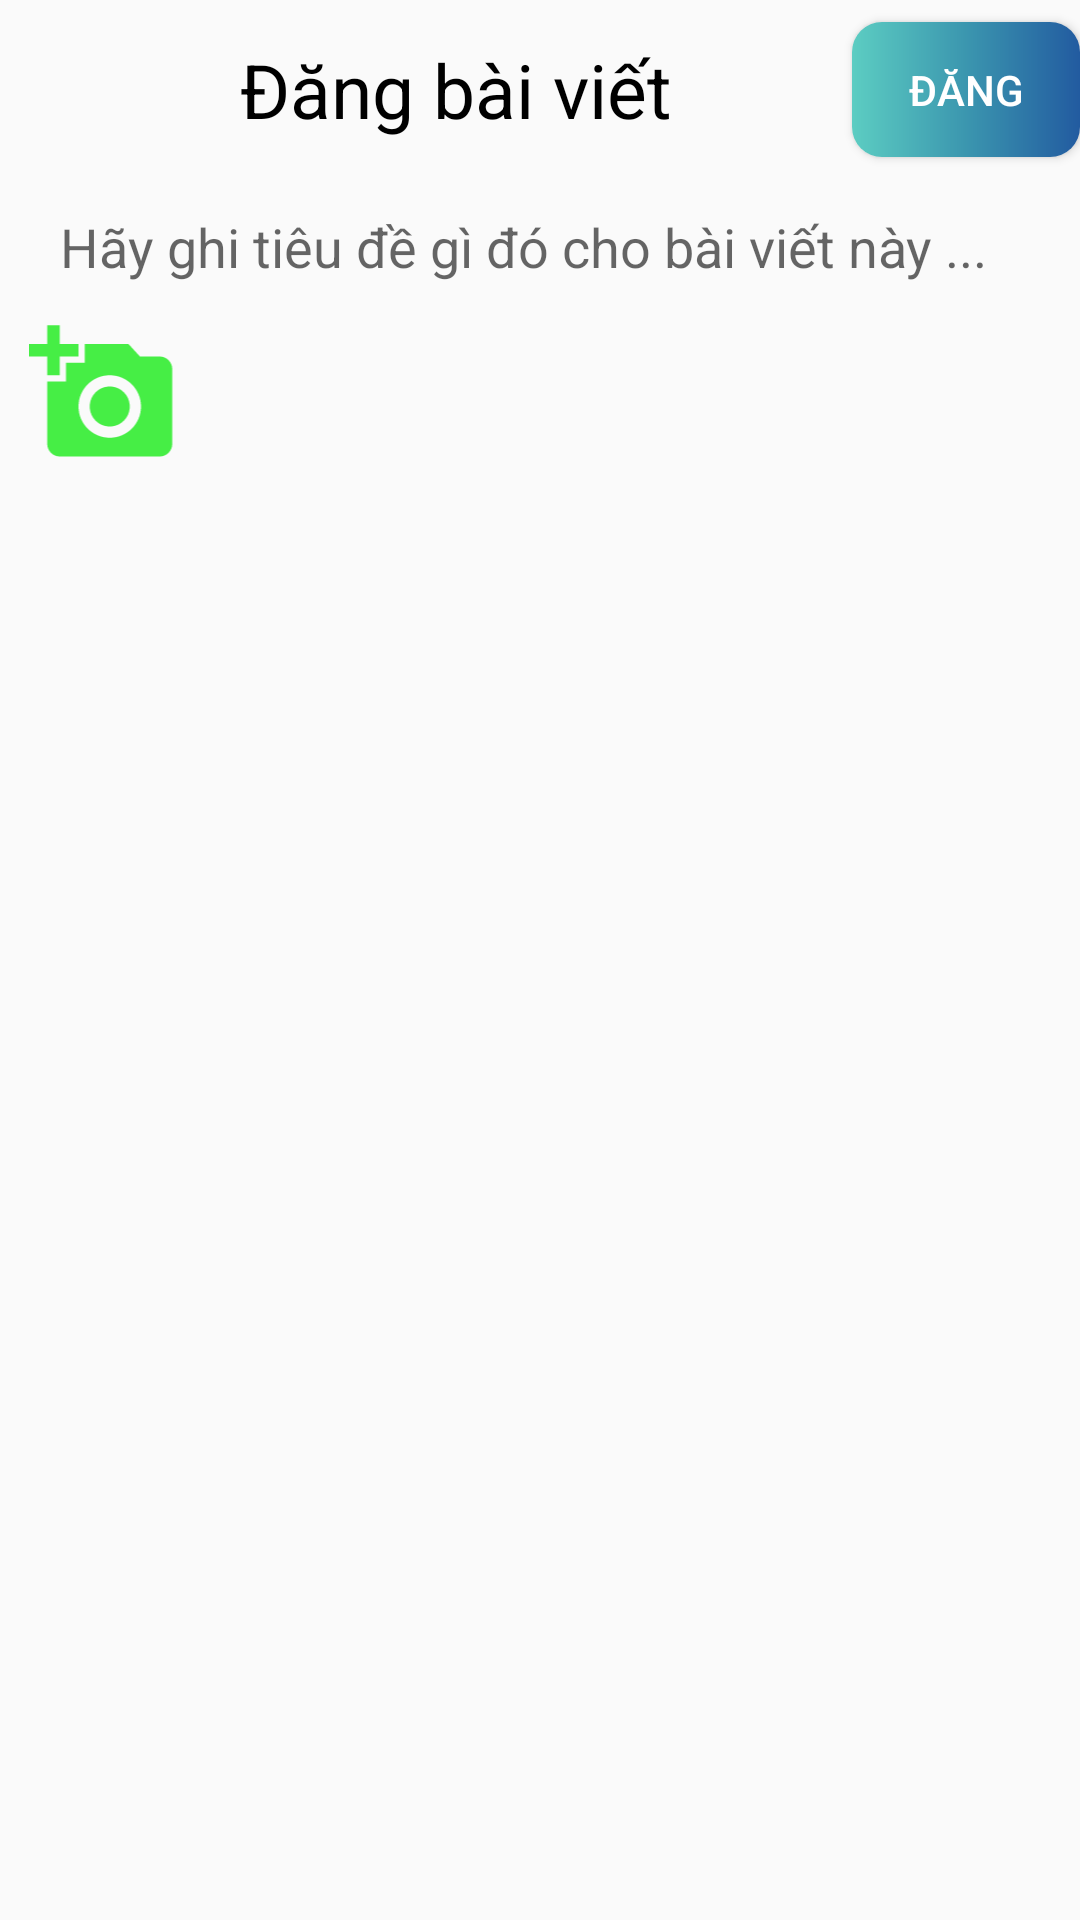

Where to tap for icons on this 1080x1920 app screen, as (x,y):
photo: (101,391)
